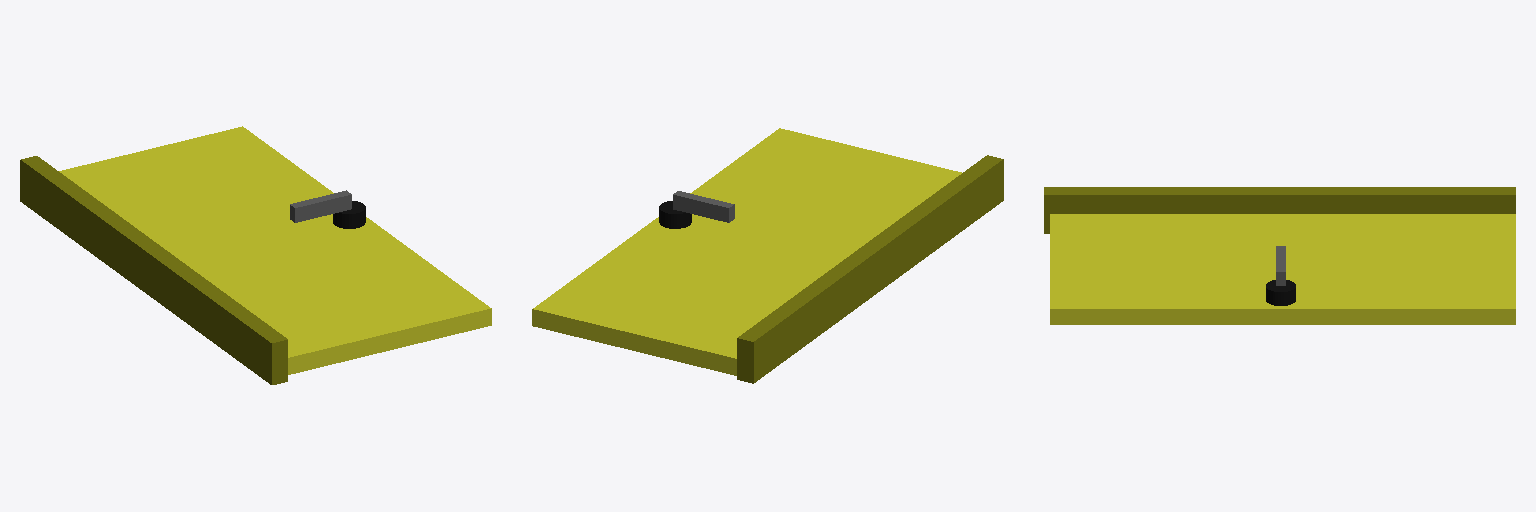
URDF robot description (door):
<robot name="door">
  
  <link name="door_pole">
    <visual>
      <origin xyz="0 0.46 0" rpy="0 0 0"/>
      <geometry>
        <box size="0.035 0.92 0.085"/>
      </geometry>
      <material name="dark_yellow">
        <color rgba="0.5 0.5 0.1 1"/>
      </material>
    </visual>	
    <collision>
      <origin xyz="0 0.46 0" rpy="0 0 0"/>
      <geometry>
        <box size="0.035 0.92 0.085"/>
      </geometry>
    </collision>
  </link>

  <link name="door_panel">
    <visual>
      <origin xyz="0.2175 0.465 -0.0175" rpy="0 0 0"/>
      <geometry>
        <box size="0.435 0.91 0.035"/>
      </geometry>
      <material name="b">
        <color rgba="0.8 0.8 0.2 1"/>
      </material>
    </visual>	
    <collision>
      <origin xyz="0.2175 0.465 -0.0175" rpy="0 0 0"/>
      <geometry>
        <box size="0.435 0.91 0.035"/>
      </geometry>
    </collision>
  </link>

  <link name="door_handle_axel">
    <visual>
      <origin rpy="0 0 1"/>
      <geometry>
        <cylinder radius="0.03" length="0.03"/>
      </geometry>
      <material name="black">
        <color rgba="0.1 0.1 0.1 1.0"/>
      </material>
    </visual>	
    <collision>
      <origin rpy="0 0 1"/>
      <geometry>
        <cylinder radius="0.03" length="0.03"/>
      </geometry>
    </collision>
  </link>

  <link name="door_handle">
    <visual>
      <origin xyz="-0.06 0 0"/>
      <geometry>
        <box size="0.12 0.02 0.03"/>
      </geometry>
      <material name="silver">
        <color rgba="0.4 0.4 0.4 1"/>
      </material>
    </visual>
    <collision>
      <origin xyz="-0.06 0 0"/>
      <geometry>
        <box size="0.12 0.02 0.03"/>
      </geometry>
    </collision>
  </link>

  <joint name="door_panel_pole" type="revolute">
    <parent link="door_pole"/>
    <child link="door_panel"/>
    <origin xyz="0.0175 0 0"/>
    <axis xyz="0 1 0"/>
    <limit lower="-1.57" upper="0" effort="100" velocity="3"/>
  </joint>
  
  <joint name="door_handle_axel_panel" type="fixed">
    <parent link="door_panel"/>
    <child link="door_handle_axel"/>
    <origin xyz="0.3955 0.462 0.01575"/>
  </joint>

  <joint name="door_handle_axel" type="revolute">
    <parent link="door_handle_axel"/>
    <child link="door_handle"/>
    <origin xyz="0 0 0.03"/>
    <axis xyz="0 0 1"/>
    <limit lower="0" upper="1.57" effort="10" velocity="3"/>
  </joint>

</robot>

--- Facts derived from the render (not from the file) ---
The picture shows the robot from 3 angles, left to right: view 1: azimuth 30°, elevation 25°; view 2: azimuth 150°, elevation 25°; view 3: azimuth 270°, elevation 25°; orthographic projection.
Robot: door — 4 links, 3 joints (2 revolute, 1 fixed); root link door_pole; default pose: all joints at 0.
Visible links, largest first — view 1: door_panel, door_pole, door_handle, door_handle_axel; view 2: door_panel, door_pole, door_handle, door_handle_axel; view 3: door_panel, door_pole, door_handle_axel.
Boxes of the visible links, x1,y1,x2,y2 form: door_panel: [59, 126, 491, 374]; door_pole: [20, 156, 287, 384]; door_handle: [290, 190, 351, 222]; door_handle_axel: [333, 201, 365, 228]; door_panel: [532, 128, 961, 375]; door_pole: [737, 155, 1003, 383]; door_handle: [673, 191, 734, 222]; door_handle_axel: [659, 201, 691, 228]; door_panel: [1050, 214, 1515, 324]; door_pole: [1044, 187, 1515, 233]; door_handle_axel: [1266, 280, 1295, 305].
Bounding box of the posed robot: 0.47 × 0.92 × 0.1032 m (x, y, z).
Geometry: primitives only (box / cylinder / sphere), no mesh files.
